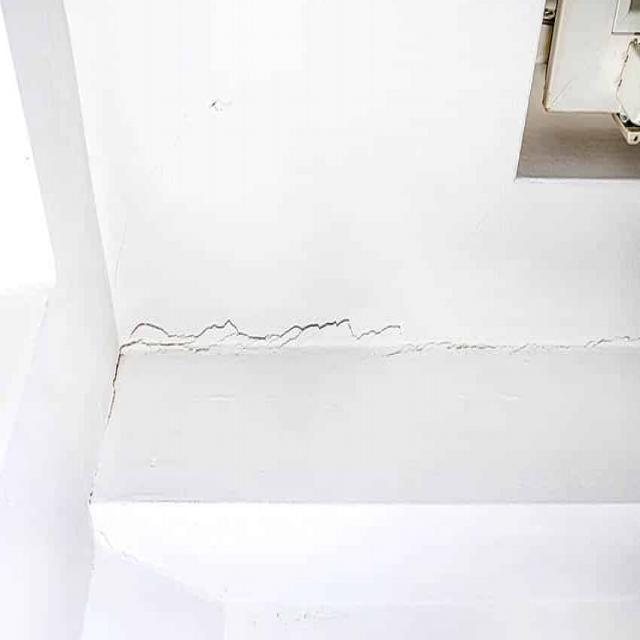Crack: (123, 315, 640, 351), (106, 333, 122, 428)
